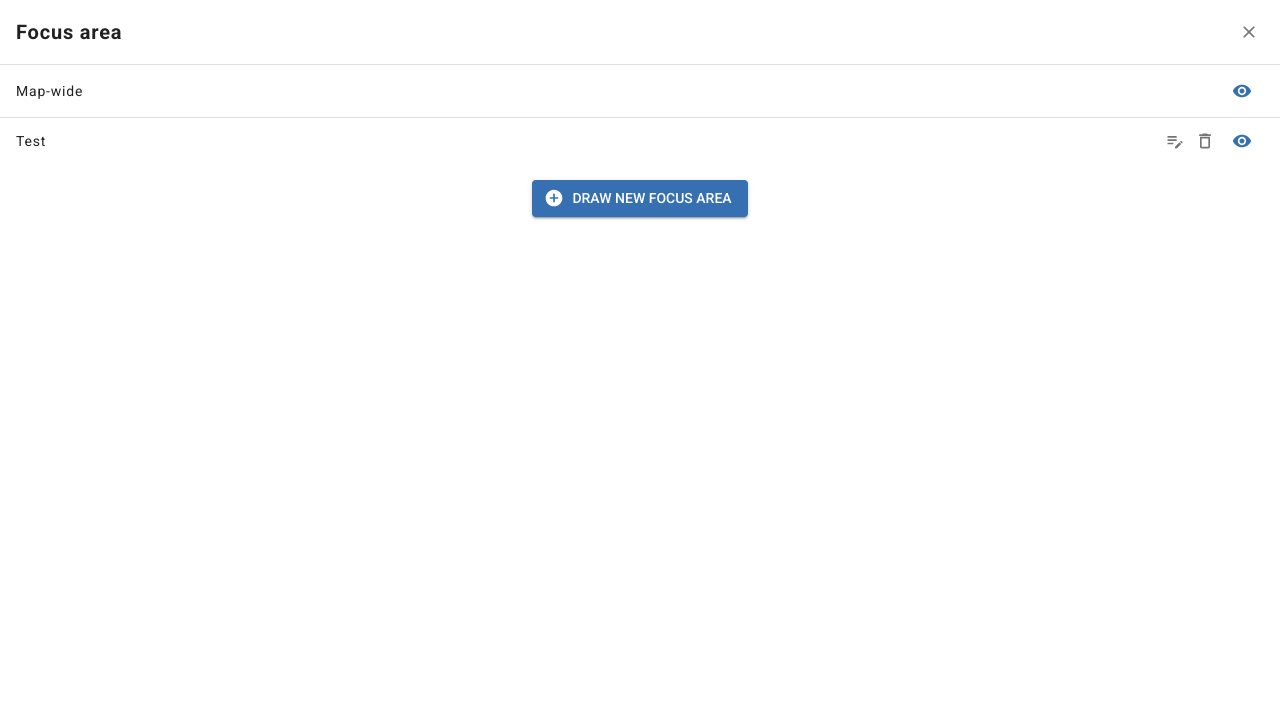
FocusAreaView › Focus Area Actions › shows error snackbar when delete fails
This screenshot has width=1280, height=720.
Expected: the text "Test" is shown, x1=16 y1=133 x2=46 y2=149
Step 1. Click the button named "Delete focus area" → x=1205, y=141, box x1=1190 y1=126 x2=1220 y2=156
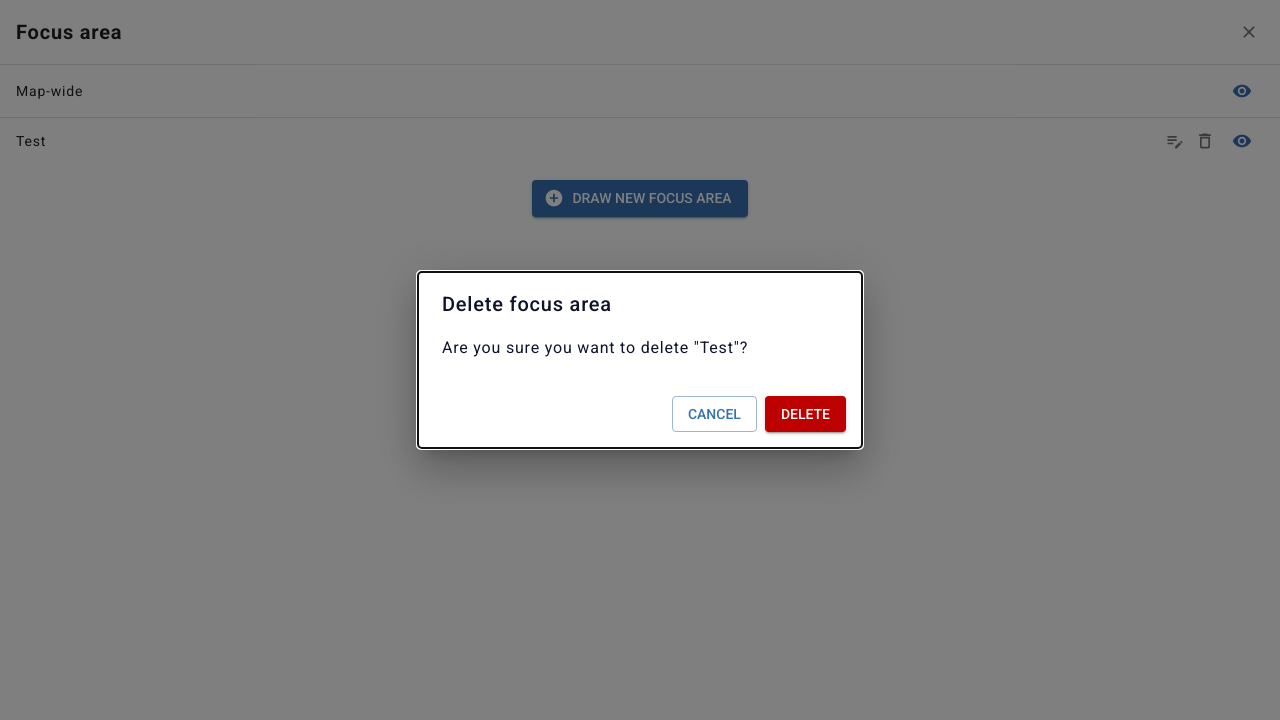
Expected: the button "DELETE" is shown
Step 2. Click the button "DELETE" → x=805, y=414, box x1=765 y1=396 x2=846 y2=432
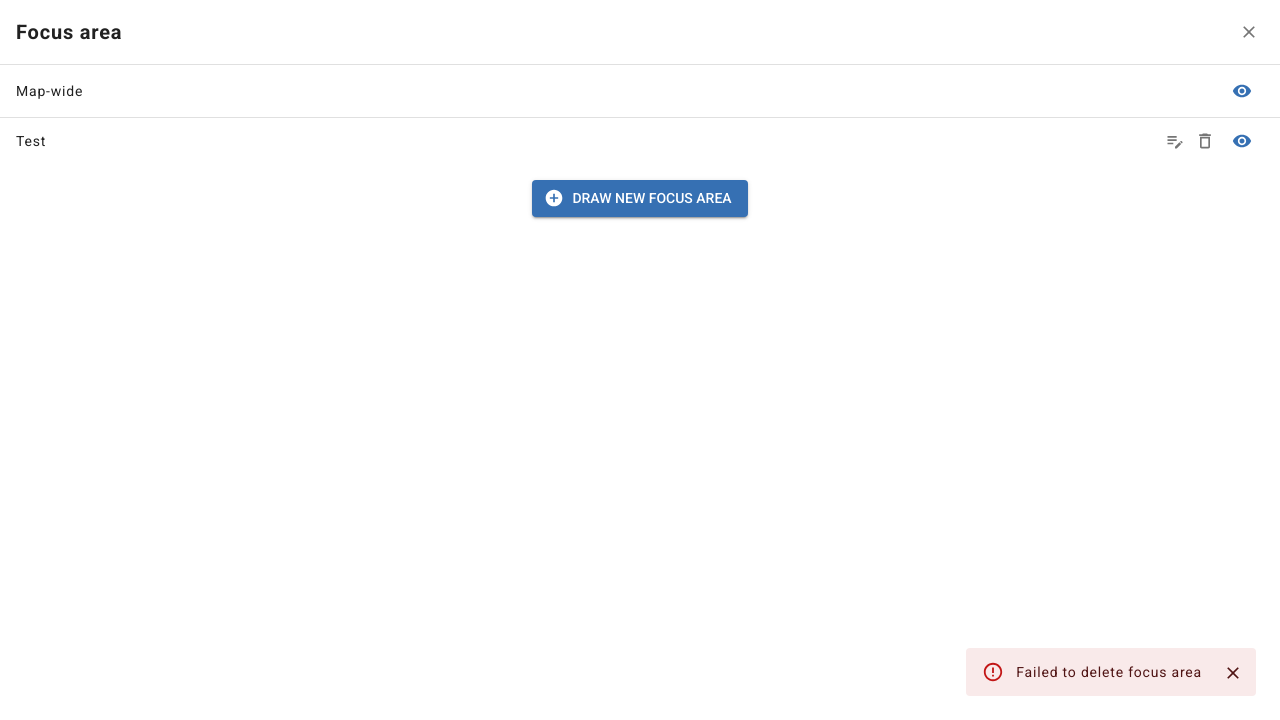
Expected: the text "Failed to delete focus area" is shown, x1=1016 y1=664 x2=1202 y2=680
